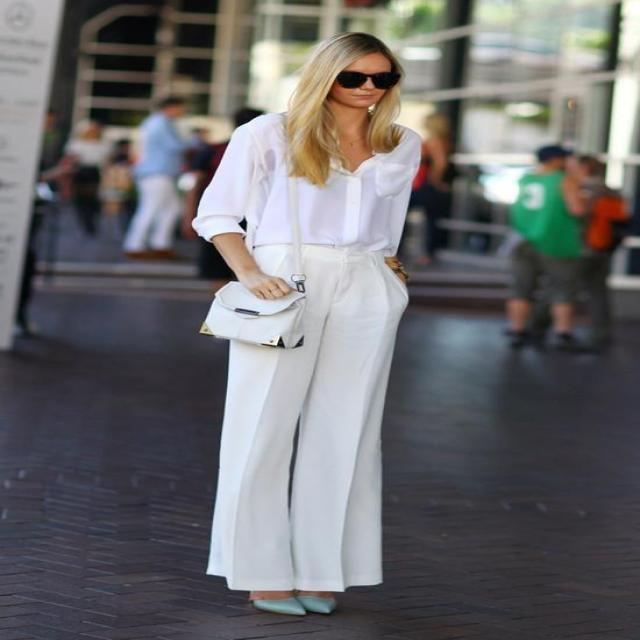pants: (205, 243, 411, 591)
shirt: (188, 111, 424, 253)
